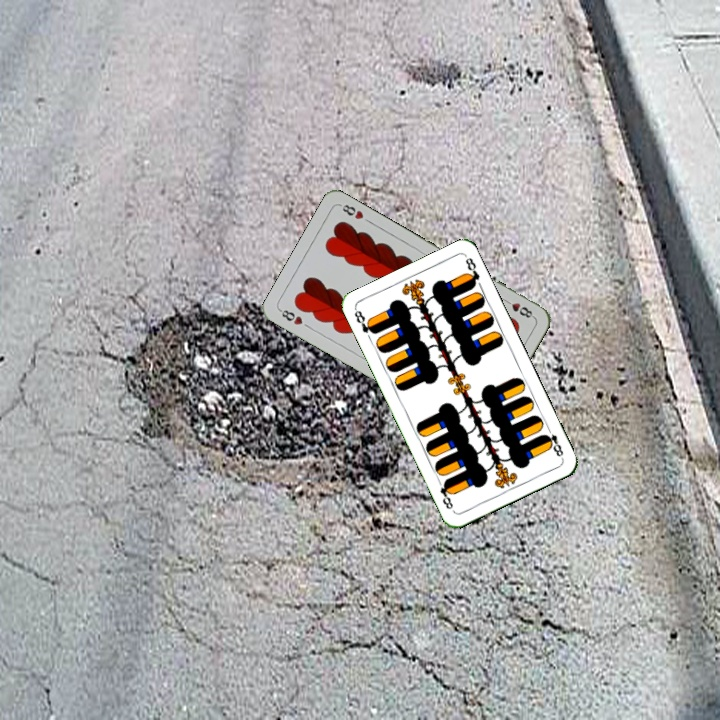E8: (540, 423, 566, 459), (350, 306, 379, 337)
H8: (499, 295, 536, 321), (276, 305, 305, 328)
